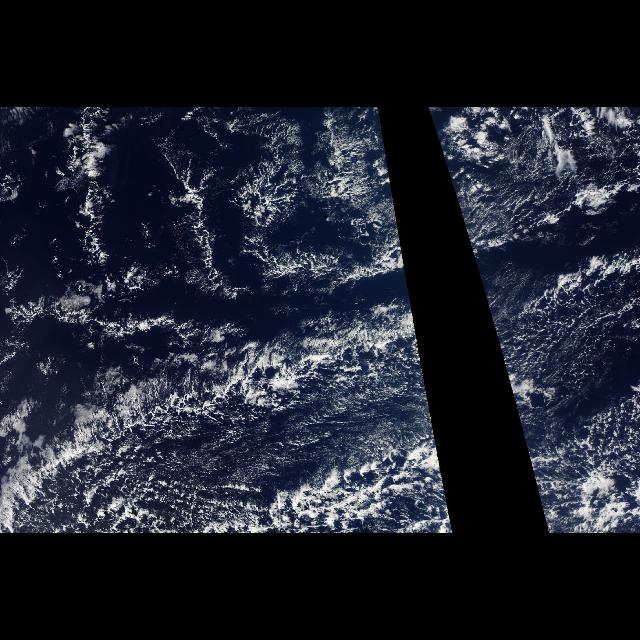Fish: (3, 138, 383, 424)
Sugar: (4, 112, 453, 532), (427, 112, 636, 532)
